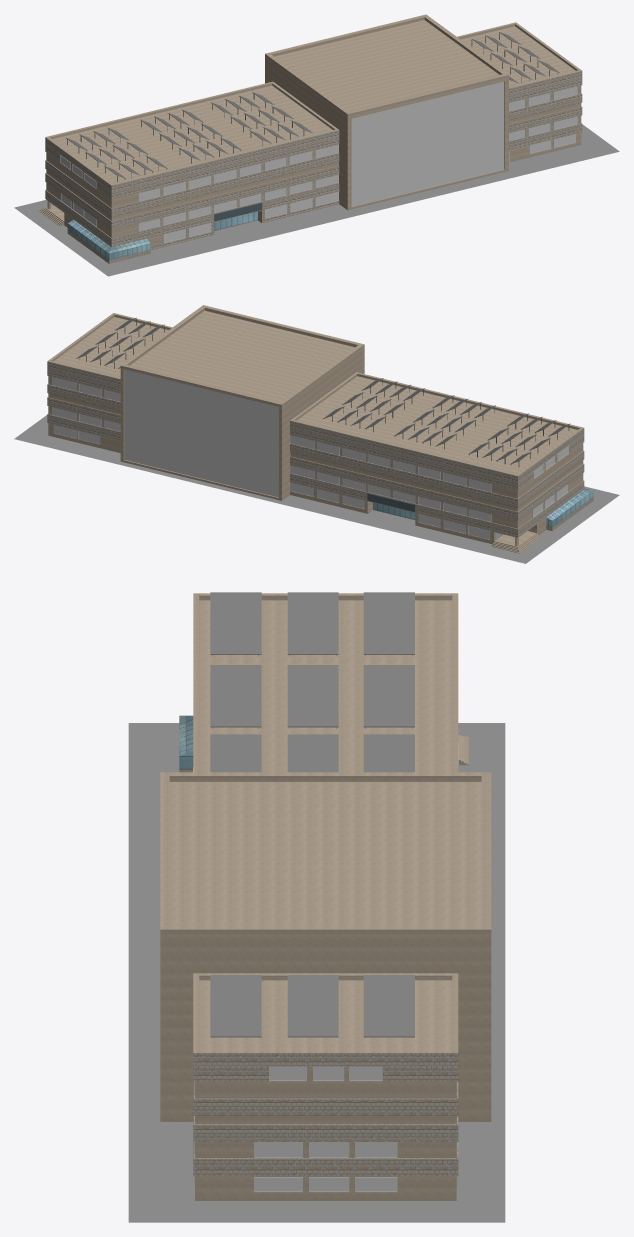
Rendered from geology building_fbx.fbx.
3 views of the same model, one above another, from view 1: azimuth 30°, elevation 25°; view 2: azimuth 150°, elevation 25°; view 3: azimuth 270°, elevation 25° (orthographic). The views are drawn at different scales.
Parts seen in each view (by area): view 1: Box012, Group001, Plane009; view 2: Box012, Group001, Plane009; view 3: Box012, Group001, Plane009.
Part boxes in pixels (x1=…): Box012: x1=38, y1=14, x2=582, y2=263; Group001: x1=60, y1=32, x2=577, y2=243; Plane009: x1=14, y1=124, x2=619, y2=276; Box012: x1=47, y1=305, x2=593, y2=553; Group001: x1=52, y1=317, x2=570, y2=540; Plane009: x1=14, y1=415, x2=619, y2=563; Box012: x1=160, y1=593, x2=491, y2=1200; Group001: x1=193, y1=592, x2=458, y2=1192; Plane009: x1=128, y1=723, x2=505, y2=1222.
Bounding box in the file's own units: 12453 × 2240 × 3968.
